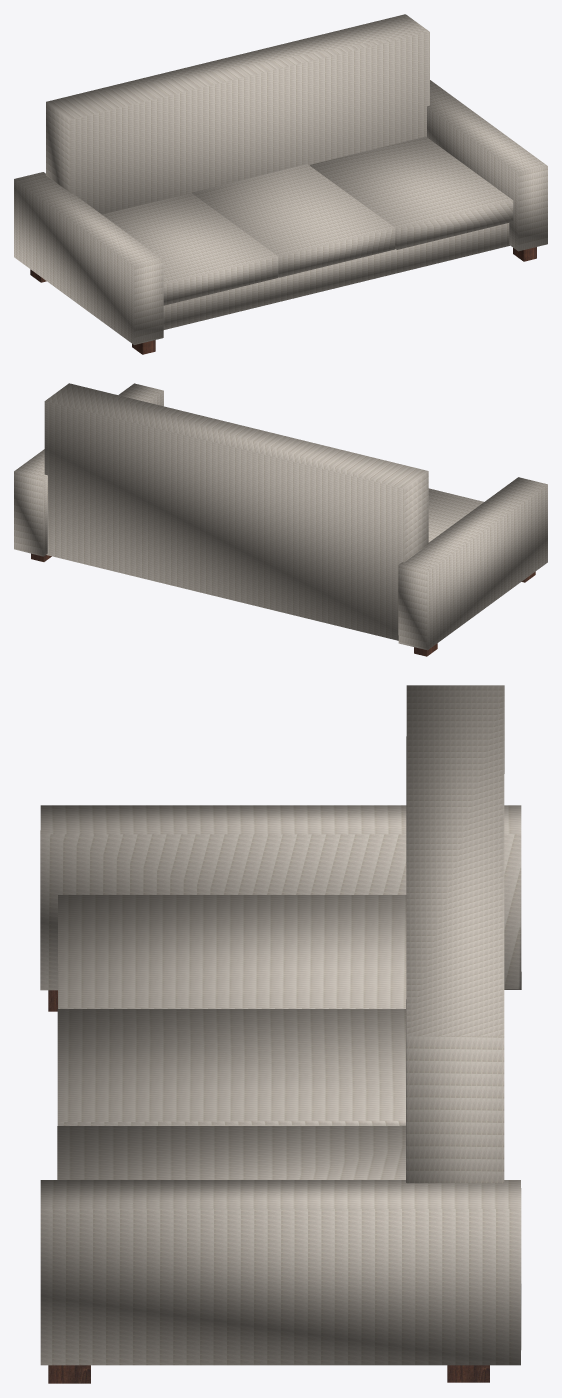
Rendered from sillon.fbx.
3 views of the same model, one above another, from view 1: azimuth 30°, elevation 25°; view 2: azimuth 150°, elevation 25°; view 3: azimuth 270°, elevation 25° (orthographic). The views are drawn at different scales.
Visible parts, largest first — view 1: Cube; view 2: Cube; view 3: Cube.
Boxes of the visible parts, box(x1,y1,x2,y2) form: Cube: box(14, 14, 547, 344); Cube: box(14, 383, 547, 650); Cube: box(40, 685, 521, 1365).
Bounding box in the file's own units: 896 × 343 × 451.
Materials: 3 (3 with a texture image).
